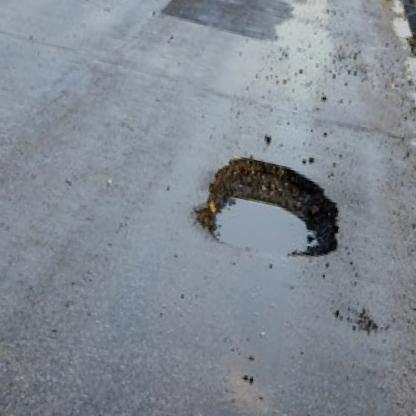pothole: (186, 145, 354, 274)
